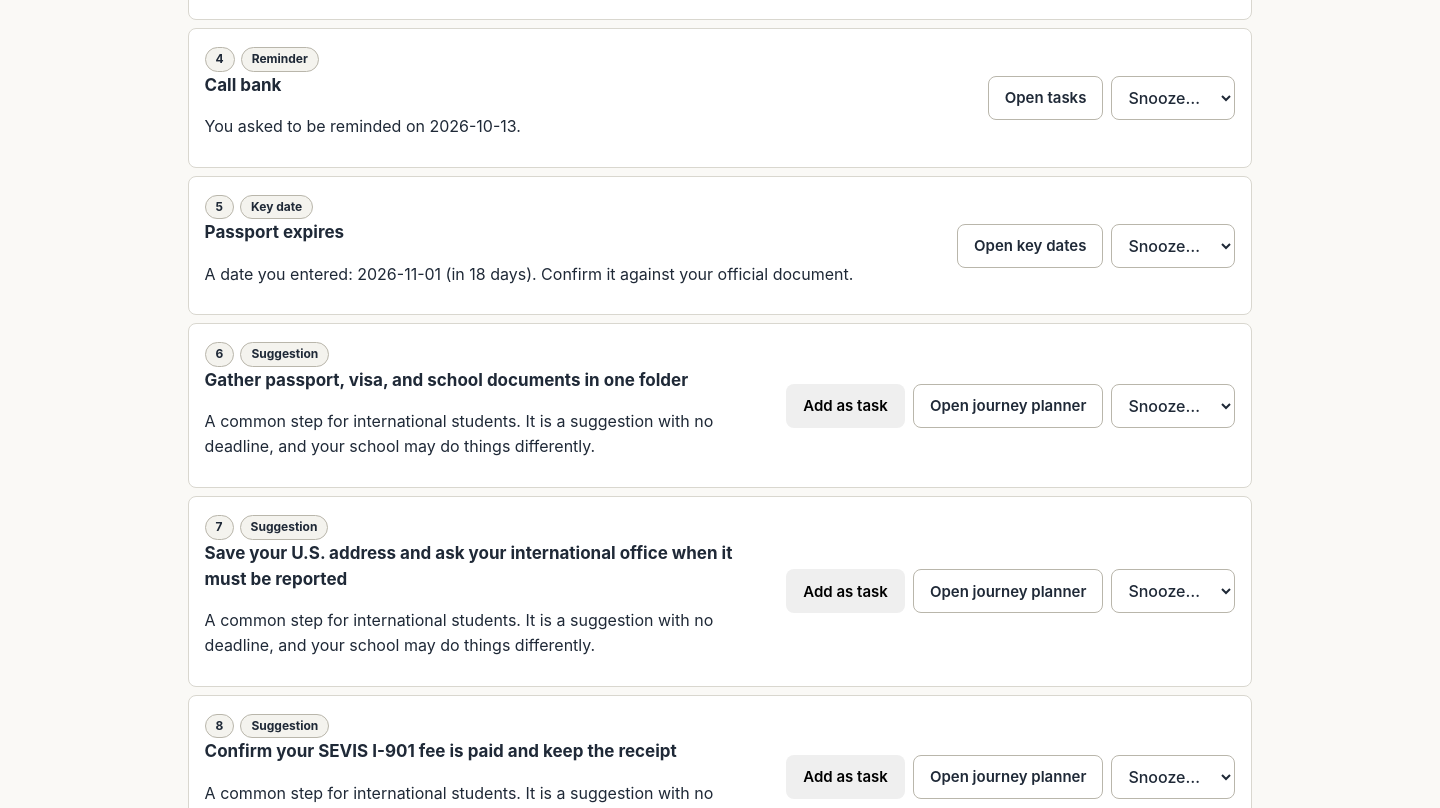
NextStepsPage › adds a suggestion as a task
(page scrolled)
Click the button with aria-label "Add as task:" at (846, 406), box [786, 384, 905, 428]
(page scrolled)
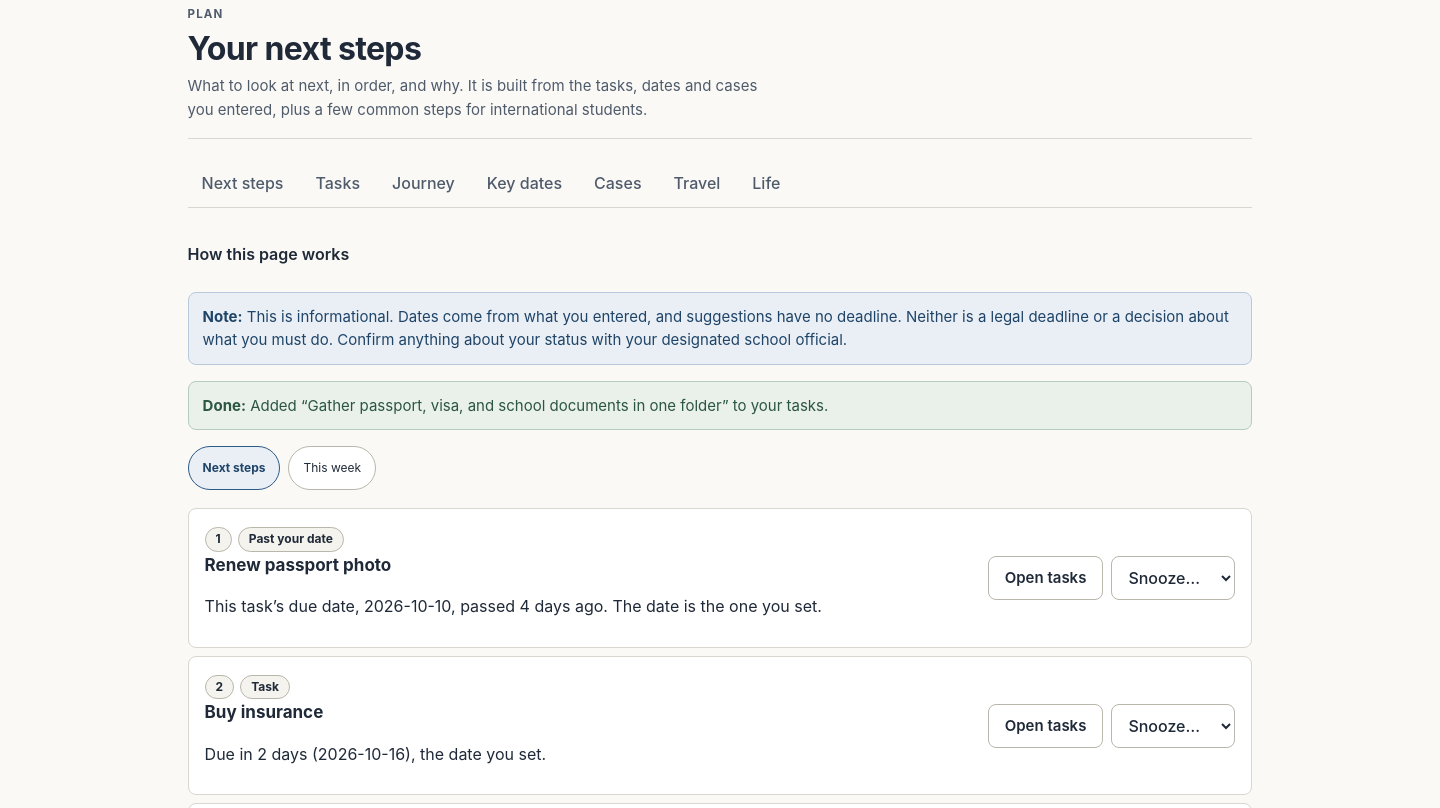
Expected: the text "to your tasks" is shown, [250, 396, 828, 415]
